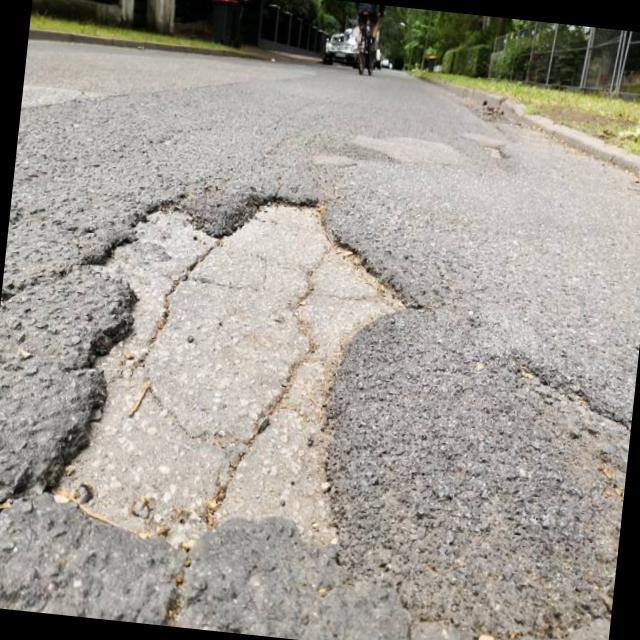Pothole: (65, 136, 426, 548), (486, 126, 517, 174)
